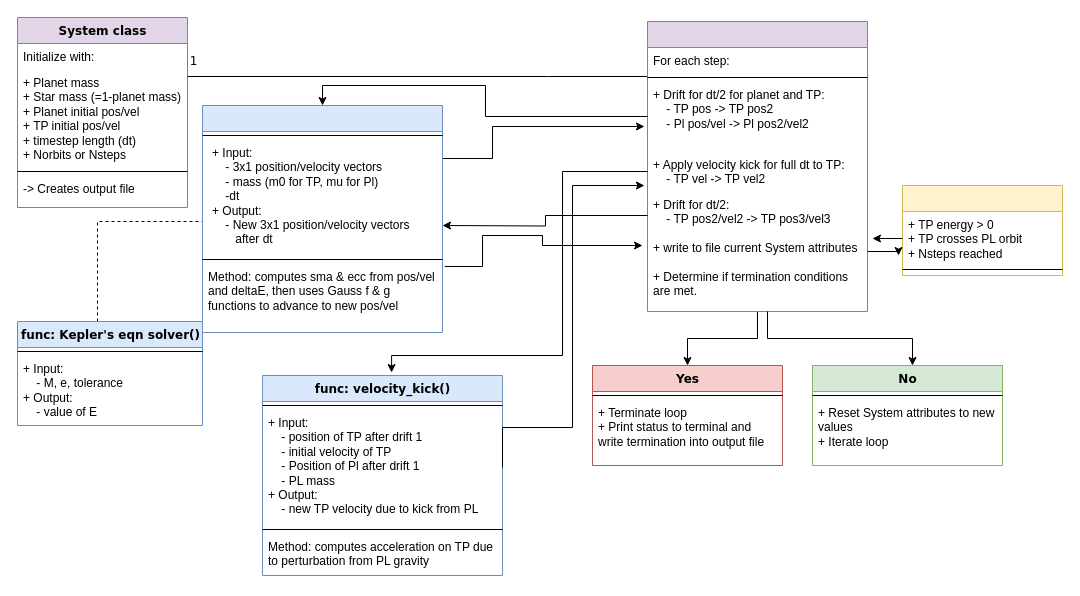
Image size: 1080x596. Some labels were removed from this diagram. The box of each missing label's shape, as (x1, y1, x2, y2) in pixels:
func: kepler_advancer(): (202, 104, 442, 332)
System.Run(): (646, 20, 868, 312)
Termination conditions: (902, 184, 1062, 276)
